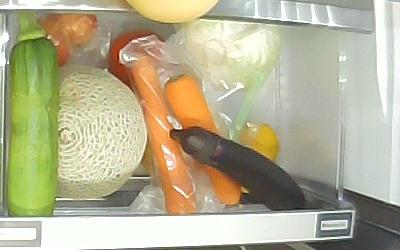cabbage: (175, 21, 278, 86)
carrot_vinyl: (131, 57, 197, 213), (163, 73, 240, 206)
eggplant: (169, 126, 305, 211)
melon: (58, 66, 148, 201)
prune_vinyl: (41, 13, 98, 53), (37, 20, 71, 68)
tangerine: (238, 121, 280, 162)
tomato: (107, 30, 164, 91)
zucchini: (8, 11, 59, 217)
